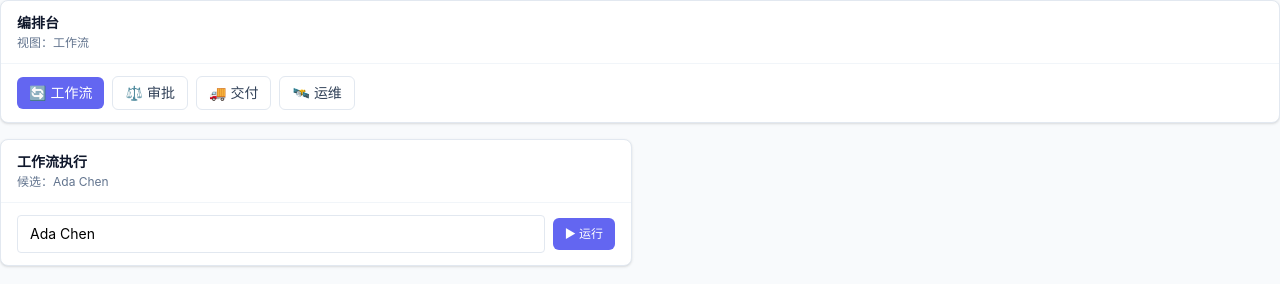
V125 ConsoleShell component › clicking approvals tab switches content
Click the tab with test id "shell-tab-approvals" at (150,93), box [112,76,188,110]
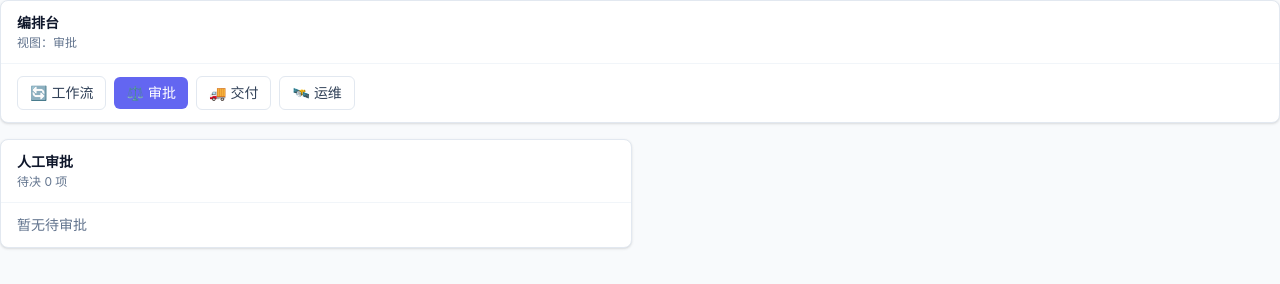
Check: the element with test id "approval-panel" is shown, box [0,139,632,248]
